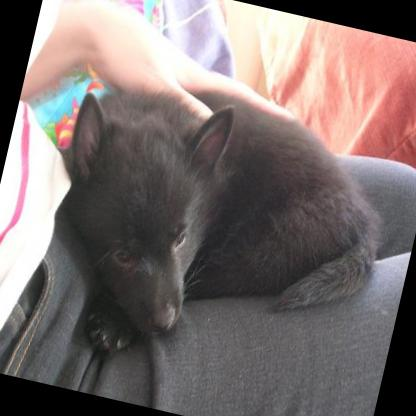schipperke: (21, 62, 406, 410)
